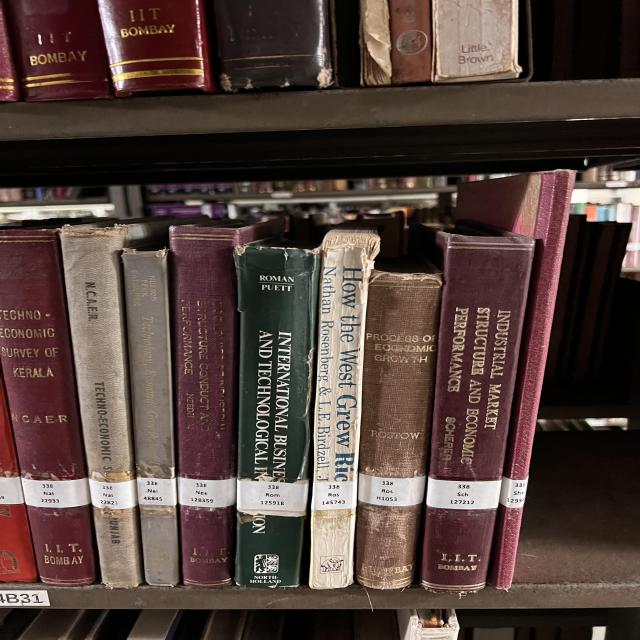Book: (455, 170, 575, 589), (168, 220, 285, 586), (420, 225, 535, 592), (0, 229, 97, 585), (60, 225, 142, 588), (235, 240, 320, 588), (357, 270, 442, 589), (308, 229, 380, 589), (122, 249, 180, 586), (98, 0, 217, 96), (3, 0, 113, 101), (213, 0, 332, 91), (0, 376, 38, 582), (432, 0, 522, 82), (388, 0, 432, 85), (360, 0, 392, 86), (0, 1, 20, 101)
Label: (237, 480, 308, 516), (427, 478, 502, 510), (358, 474, 427, 506), (22, 478, 90, 508), (178, 478, 237, 508), (88, 479, 138, 510), (312, 481, 357, 510), (137, 478, 177, 506), (498, 476, 528, 509), (0, 476, 25, 505)
